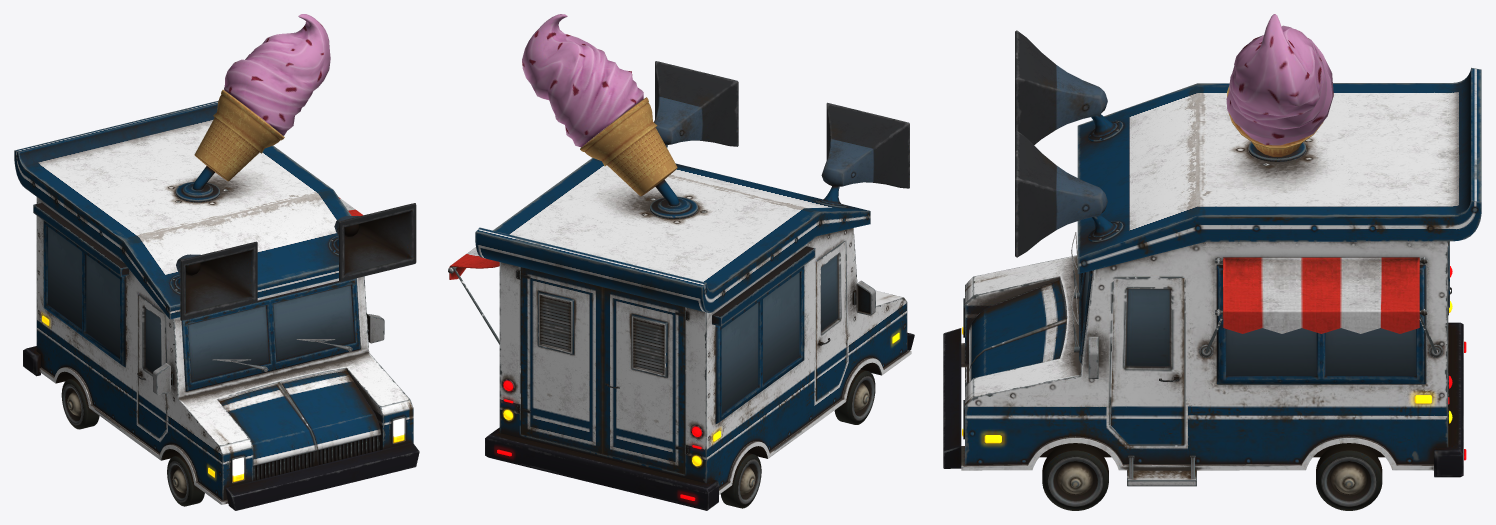
Rendered from IceCreamTruck.dae.
The picture shows the model from 3 angles, left to right: view 1: azimuth 30°, elevation 25°; view 2: azimuth 150°, elevation 25°; view 3: azimuth 270°, elevation 25°; orthographic projection. The views are drawn at different scales.
Visible parts, largest first — view 1: dilapidated_ice_cream_truck; view 2: dilapidated_ice_cream_truck; view 3: dilapidated_ice_cream_truck.
Part boxes in pixels (left/top/right/bottom): dilapidated_ice_cream_truck: left=14, top=14, right=419, bottom=510; dilapidated_ice_cream_truck: left=448, top=14, right=914, bottom=510; dilapidated_ice_cream_truck: left=943, top=14, right=1481, bottom=510.
Size of the model in its own units: 11.8 by 16.07 by 15.66.
